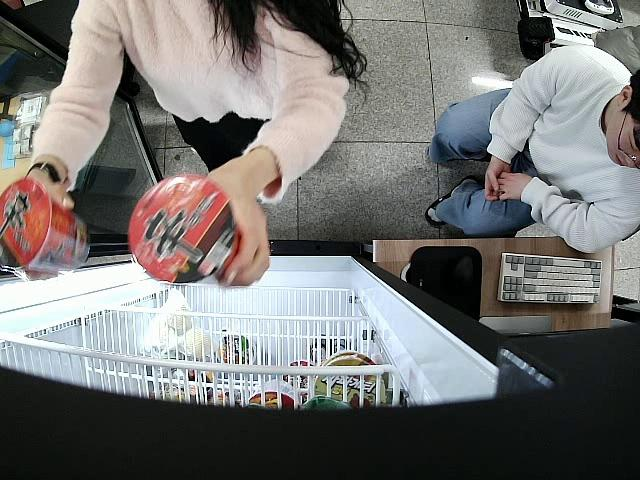00_hand: (0, 169, 77, 289), (200, 158, 269, 289)
02_shinRamen_S: (129, 173, 237, 281), (0, 180, 91, 272)
